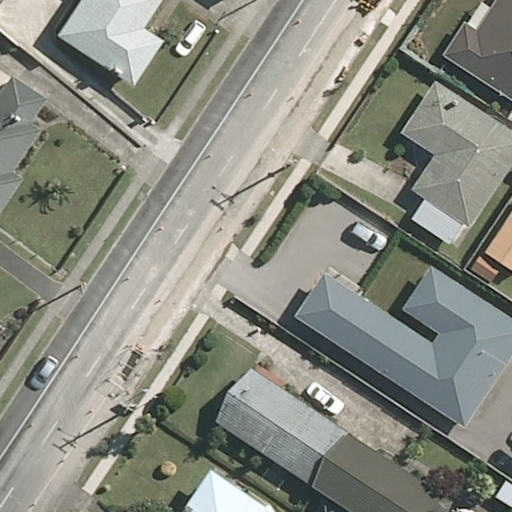DT: (116, 396, 140, 419), (278, 150, 300, 174)
